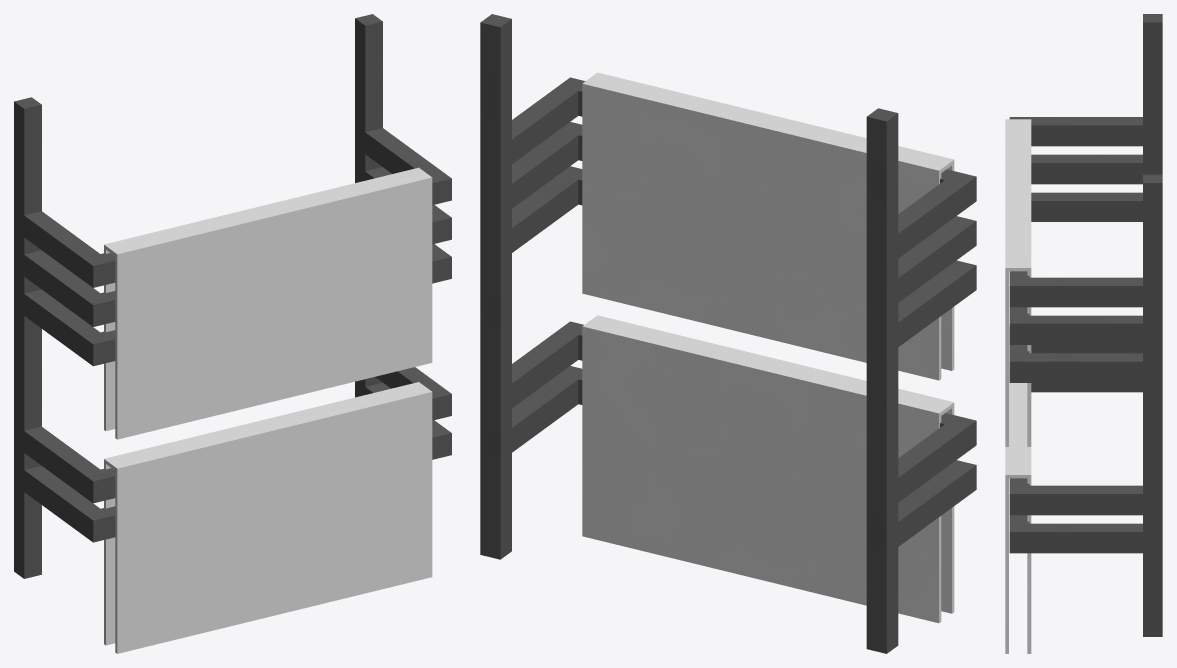
File: Towel_Hanger.fbx
The picture shows the model from 3 angles, left to right: view 1: azimuth 30°, elevation 25°; view 2: azimuth 150°, elevation 25°; view 3: azimuth 270°, elevation 25°; orthographic projection. The views are drawn at different scales.
Parts seen in each view (by area): view 1: Towel_Hanger; view 2: Towel_Hanger; view 3: Towel_Hanger.
Part boxes in pixels (x1,y1,x2,y2): Towel_Hanger: (14, 14, 451, 653); Towel_Hanger: (480, 14, 976, 653); Towel_Hanger: (1005, 14, 1162, 653).
Size of the model in its own units: 1.04 by 1.38 by 0.4105.
